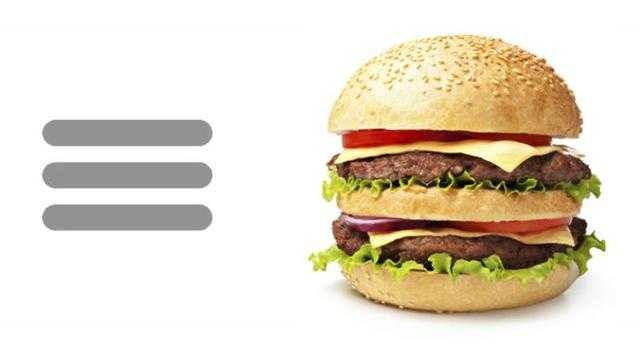hamburger: (319, 35, 603, 308)
